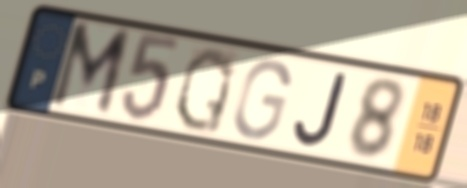5: (117, 31, 184, 128)
8: (346, 74, 407, 165)
G: (230, 56, 294, 142)
J: (291, 70, 351, 150)
M: (45, 20, 136, 122)
Q: (170, 44, 239, 138)
